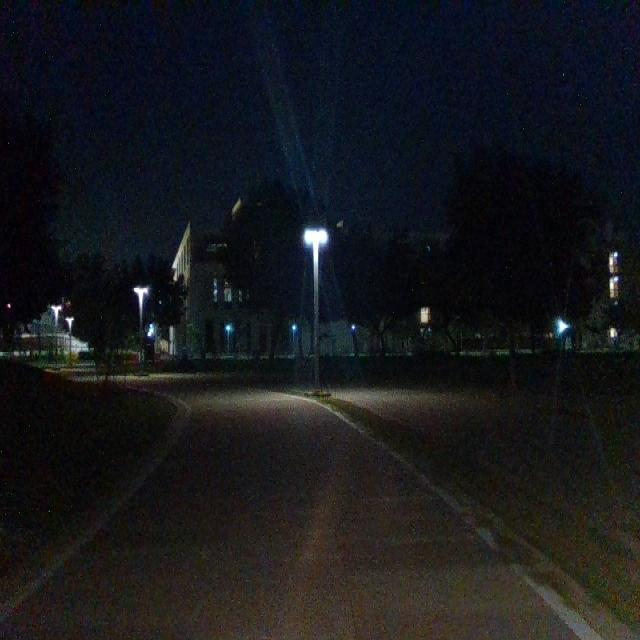lane: (0, 392, 582, 640)
